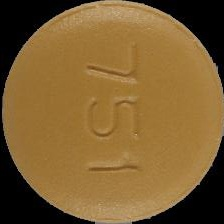51079-644: (0, 0, 224, 224)
